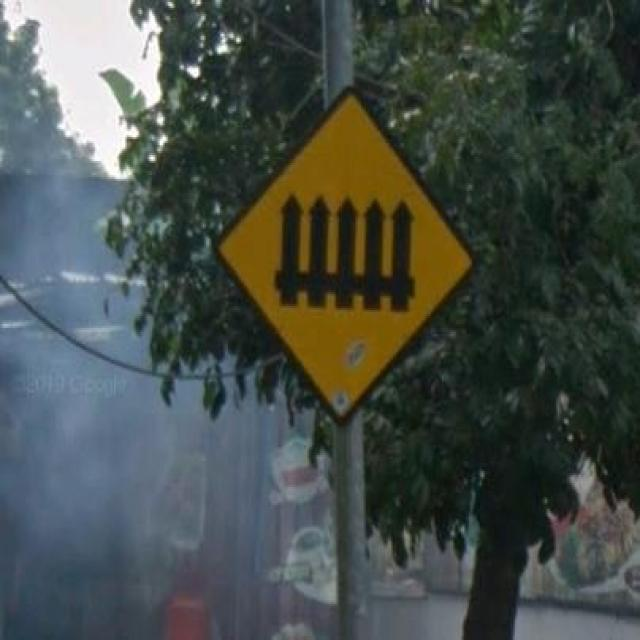traffic sign: (231, 102, 472, 422)
